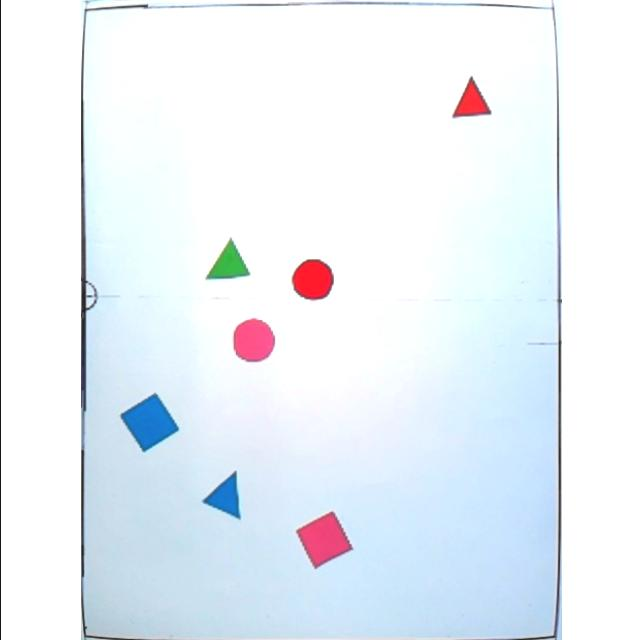blueSquare: (118, 392, 178, 453)
blueTriangle: (200, 470, 242, 522)
greenTriangle: (202, 237, 248, 281)
pinkCircle: (230, 318, 272, 364)
pinkSquare: (293, 512, 351, 568)
redCircle: (289, 258, 333, 302)
redTriangle: (448, 75, 492, 119)
